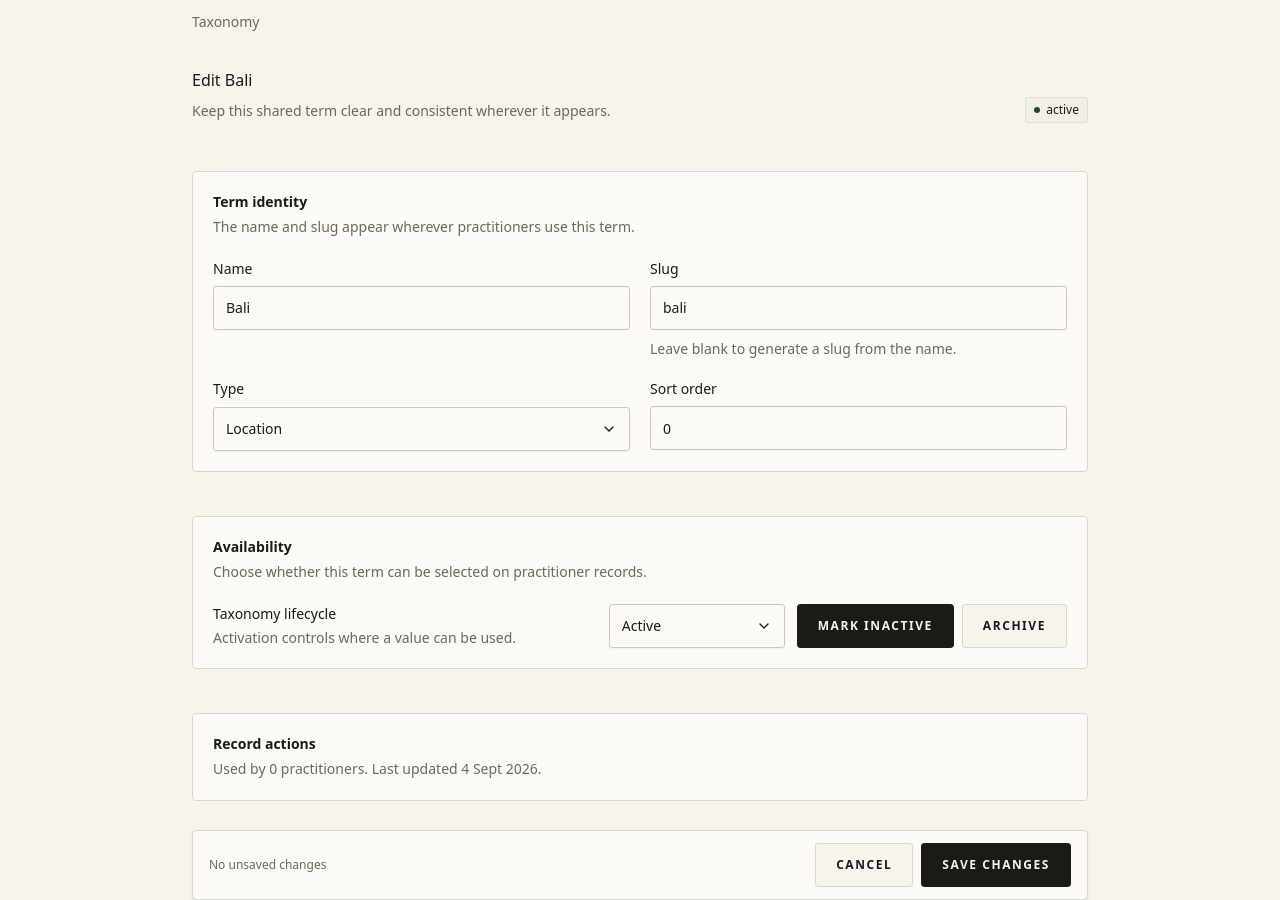
Test case: practitioner and taxonomy CMS controls › keeps the taxonomy editor usable after archiving
The image size is (1280, 900).
Click the button "Archive": click(1014, 626) [962,604,1067,648]
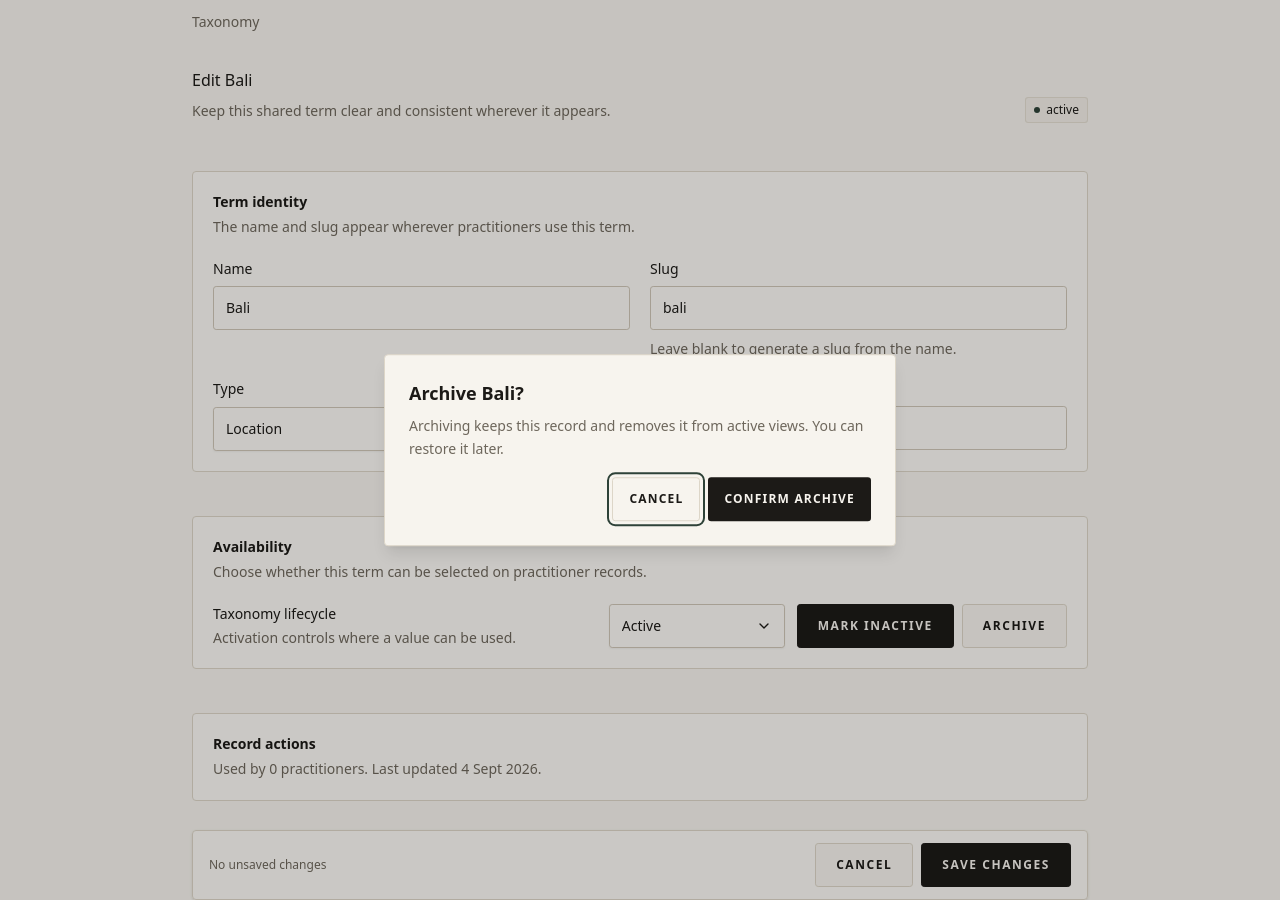
Click the button "Confirm archive": click(790, 499) [708,477,871,521]
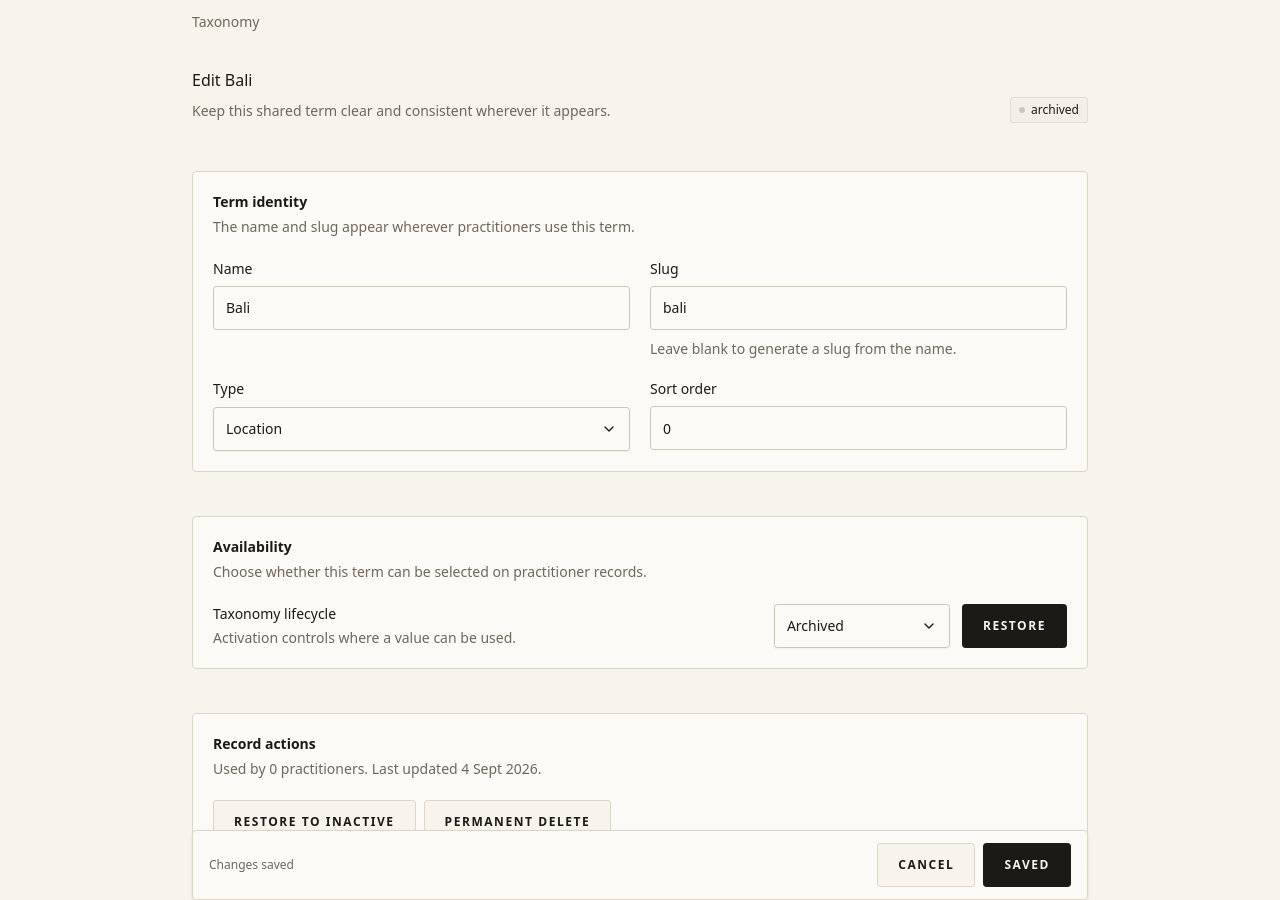
Check: the element with test id "archived" reads "archived", box [1031,101,1079,118]
